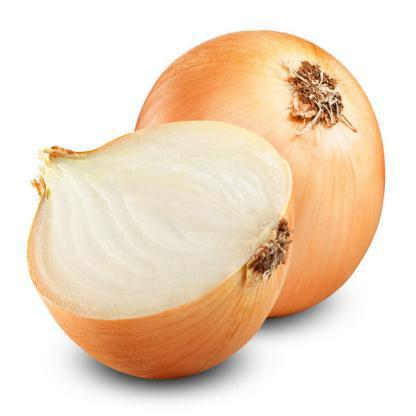onion: (21, 112, 290, 370), (155, 38, 366, 314)
